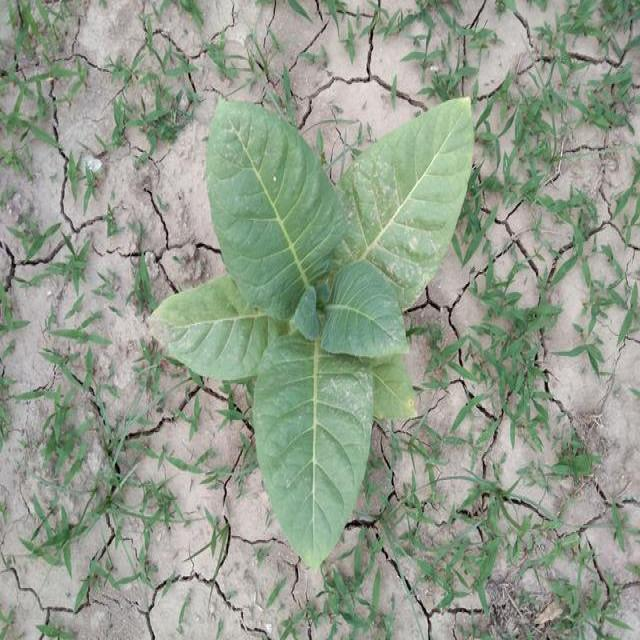crop: (176, 88, 471, 562)
